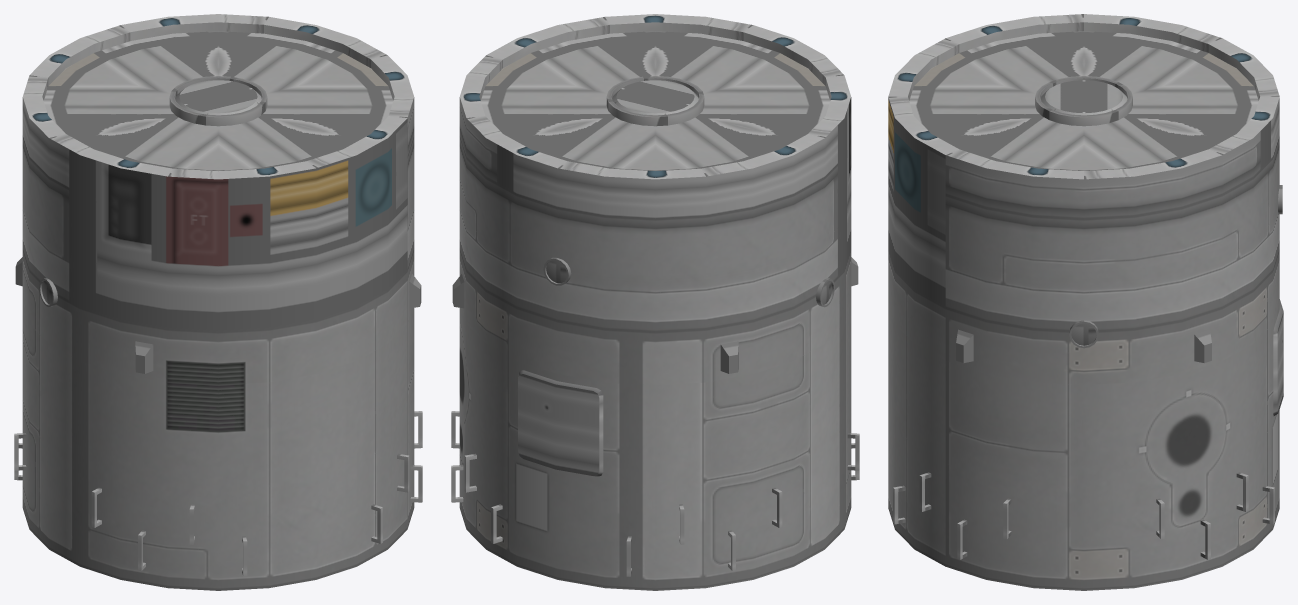
The model's file is Eridani_Crew_2.obj.
3 views of the same model, side by side, from view 1: azimuth 30°, elevation 25°; view 2: azimuth 150°, elevation 25°; view 3: azimuth 270°, elevation 25° (orthographic).
Parts seen in each view (by area): view 1: Eridani_Crew_2; view 2: Eridani_Crew_2, Eridani_Crew_2_Windows; view 3: Eridani_Crew_2.
Boxes of the visible parts, x1=… form: Eridani_Crew_2: x1=14, y1=14, x2=422, y2=590; Eridani_Crew_2: x1=451, y1=14, x2=859, y2=590; Eridani_Crew_2_Windows: x1=546, y1=260, x2=831, y2=304; Eridani_Crew_2: x1=888, y1=14, x2=1283, y2=590.
Size of the model in its own units: 2.54 by 2.9 by 2.52.
